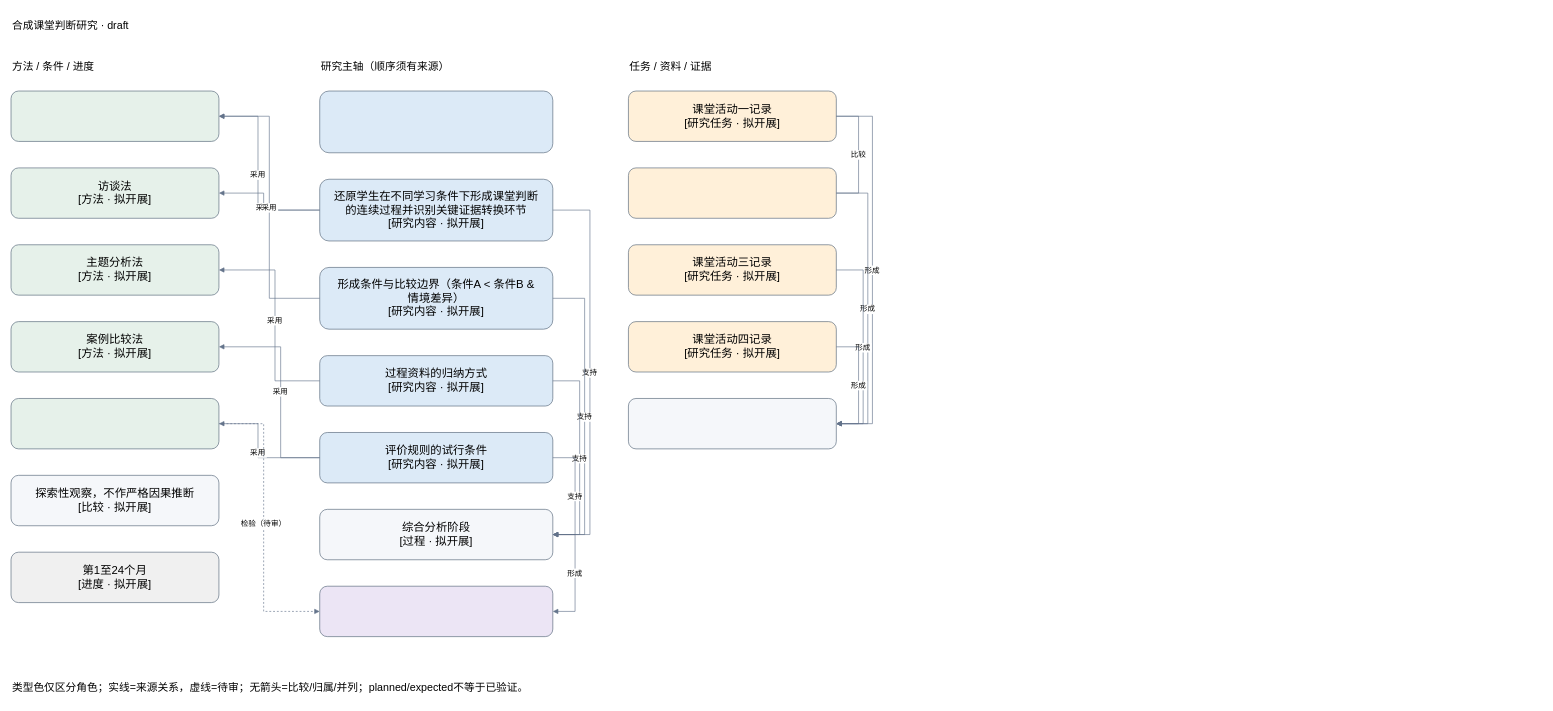
The diagram is 1553 pixels wide and 711 high, and some of its shapes have lost their labels. The shapes that lost their labels are listed below. From the top down, each one's box as (x1, y1, x2, y2) in pixels, then its label:
(10, 90, 219, 141): 过程追踪法 [方法 · 拟开展]
(319, 90, 553, 153): 不同资料来源如何支持对课堂判断过程的 解释 [科学问题 · 拟开展]
(628, 167, 836, 218): 课堂活动二记录 [研究任务 · 拟开展]
(10, 398, 219, 449): 描述统计法 [方法 · 拟开展]
(628, 398, 836, 449): 连续过程资料 [资料 · 拟开展]
(319, 586, 553, 637): 评价工具草案 [产出 · 预期产物]
